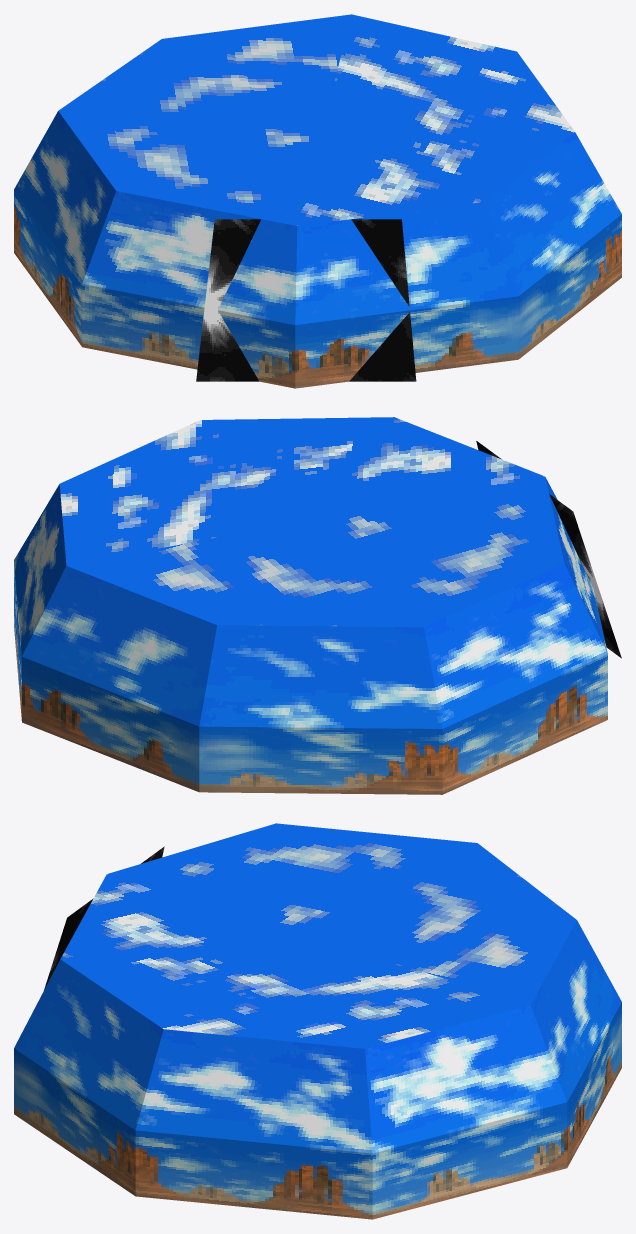
The picture shows the model from 3 angles, top to bottom: view 1: azimuth 30°, elevation 25°; view 2: azimuth 150°, elevation 25°; view 3: azimuth 270°, elevation 25°; orthographic projection. The views are drawn at different scales.
Parts seen in each view (by area): view 1: SkyTop2.001, SkyTop1.002, Sky1.002, Sky7.002, Sky2.002, Sky3.002, Sky4.002, Sun.002, Sky6.002, Sky8.002, Sky5.002; view 2: SkyTop2.001, SkyTop1.002, Sky3.002, Sky1.002, Sky6.002, Sky8.002, Sky2.002, Sky5.002, Sky7.002, Sun.002, Sky4.002; view 3: SkyTop2.001, SkyTop1.002, Sky6.002, Sky7.002, Sky5.002, Sky3.002, Sky4.002, Sky1.002, Sky8.002, Sky2.002, Sun.002.
Part boxes in pixels (x1,y1,x2,y2): SkyTop2.001: [58, 14, 351, 225]; SkyTop1.002: [297, 14, 574, 225]; Sky1.002: [295, 201, 518, 324]; Sky7.002: [82, 191, 297, 324]; Sky2.002: [295, 296, 518, 388]; Sky3.002: [487, 132, 621, 295]; Sky4.002: [82, 284, 295, 388]; Sun.002: [196, 219, 416, 381]; Sky6.002: [14, 111, 115, 283]; Sky8.002: [518, 214, 621, 359]; Sky5.002: [14, 190, 82, 346]; SkyTop2.001: [66, 476, 564, 627]; SkyTop1.002: [59, 417, 544, 565]; Sky3.002: [199, 625, 442, 728]; Sky1.002: [22, 566, 216, 726]; Sky6.002: [424, 563, 607, 728]; Sky8.002: [199, 726, 442, 794]; Sky2.002: [22, 657, 199, 791]; Sky5.002: [442, 654, 607, 794]; Sky7.002: [14, 477, 607, 655]; Sun.002: [476, 441, 621, 658]; Sky4.002: [14, 562, 21, 720]; SkyTop2.001: [107, 823, 576, 1004]; SkyTop1.002: [60, 874, 529, 1048]; Sky6.002: [136, 1029, 372, 1153]; Sky7.002: [365, 1005, 566, 1153]; Sky5.002: [135, 1130, 372, 1219]; Sky3.002: [14, 959, 163, 1129]; Sky4.002: [372, 1102, 567, 1219]; Sky1.002: [530, 920, 621, 1101]; Sky8.002: [14, 1048, 135, 1196]; Sky2.002: [567, 1002, 621, 1167]; Sun.002: [44, 846, 164, 989].
Bounding box in the file's own units: 102746 × 29938 × 99518.
Materials: 35 (35 with a texture image).
